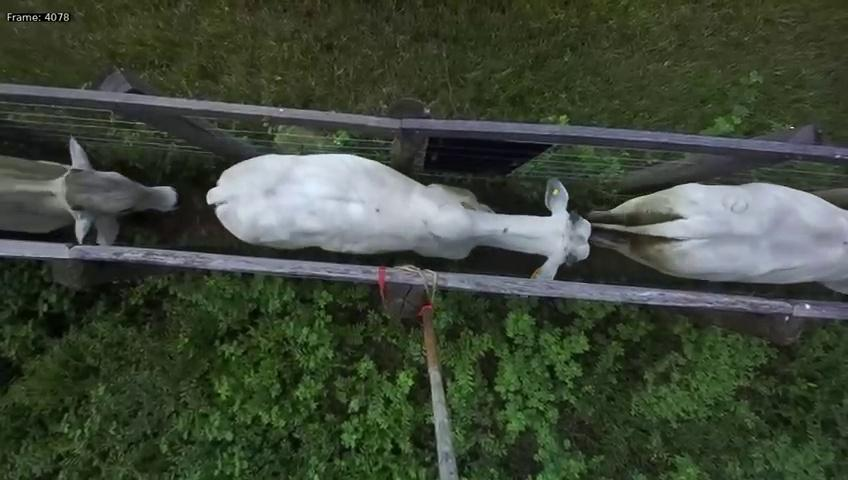cattle: (202, 125, 593, 281), (0, 122, 183, 251)
